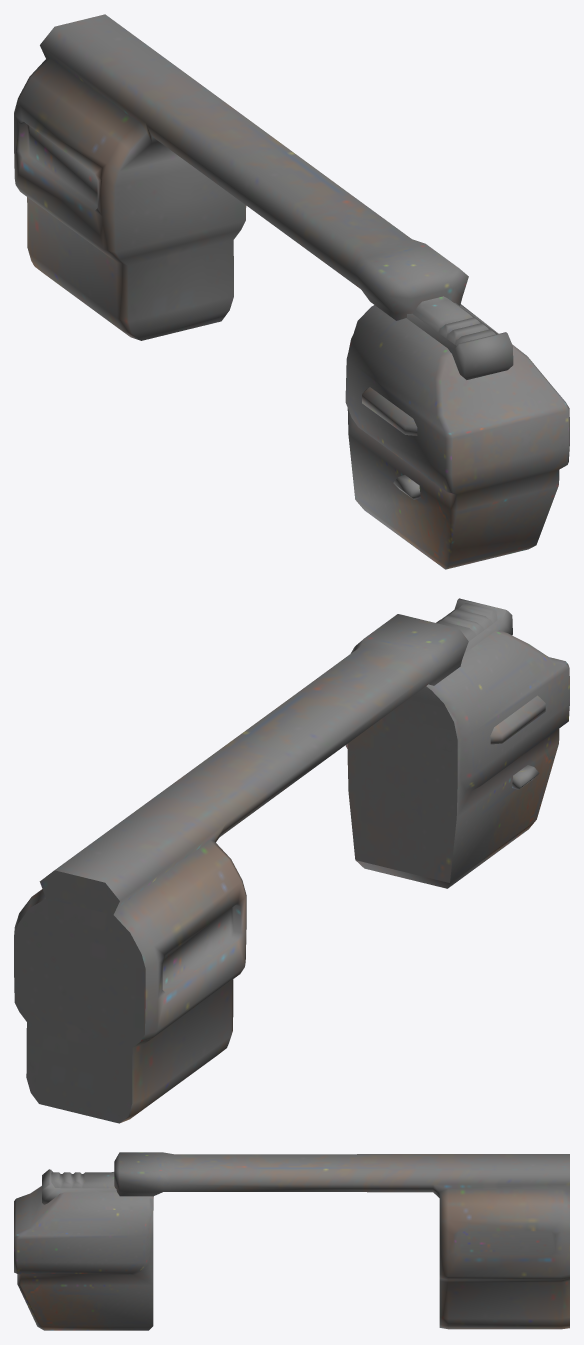
Rendered from body5.obj.
3 views of the same model, one above another, from view 1: azimuth 30°, elevation 25°; view 2: azimuth 150°, elevation 25°; view 3: azimuth 270°, elevation 25° (orthographic). The views are drawn at different scales.
Visible parts, largest first — view 1: body5; view 2: body5; view 3: body5.
Part boxes in pixels (x1=…): body5: x1=14, y1=14, x2=569, y2=569; body5: x1=14, y1=598, x2=569, y2=1123; body5: x1=14, y1=1152, x2=569, y2=1330.
Bounding box in the file's own units: 5.1 × 8.19 × 26.55.
